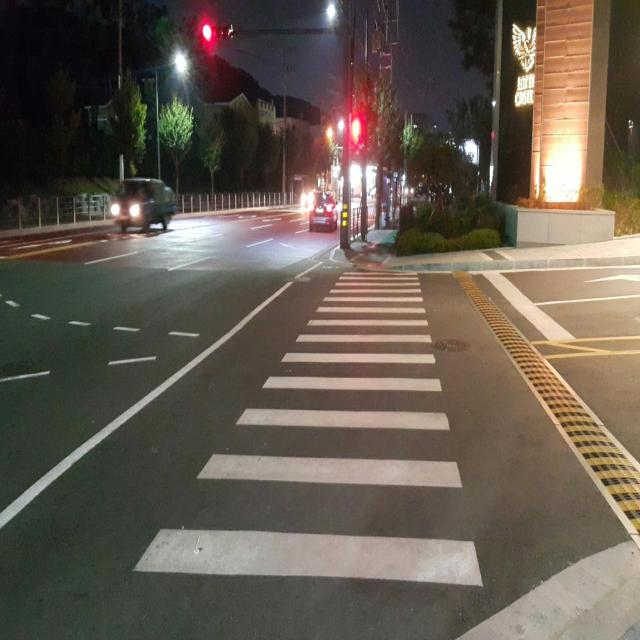빨간불: (349, 104, 363, 152)
횡단보도: (132, 267, 484, 589)
